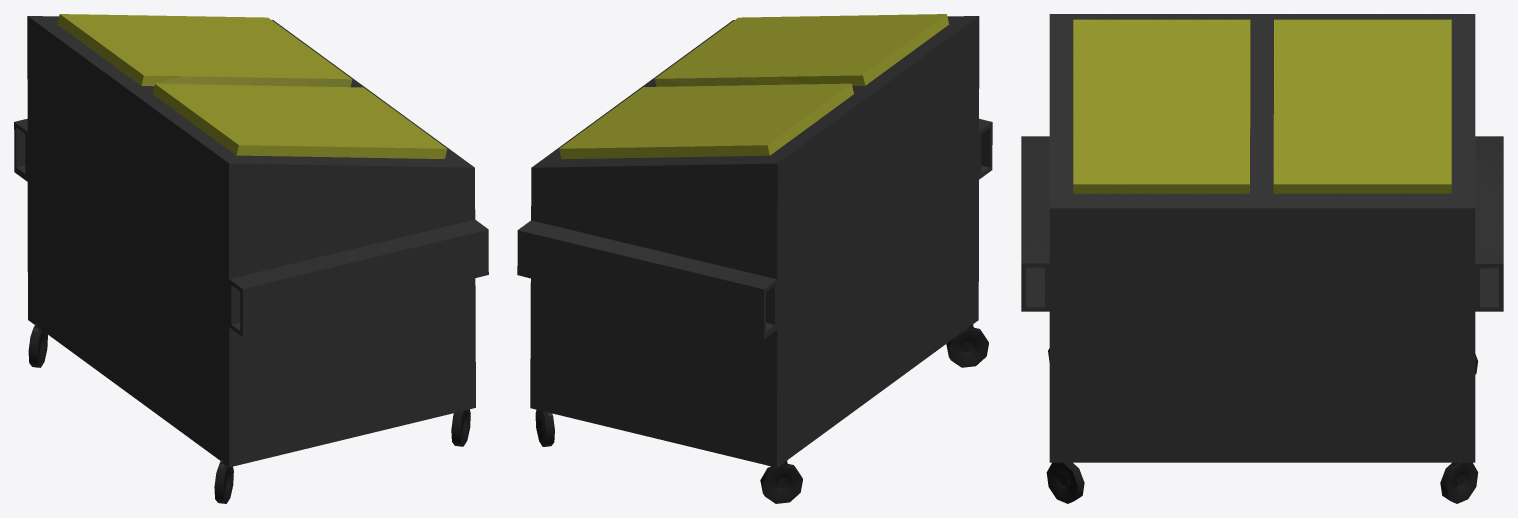
Rendered from trashrecyclage.glb.
3 views of the same model, side by side, from view 1: azimuth 30°, elevation 25°; view 2: azimuth 150°, elevation 25°; view 3: azimuth 270°, elevation 25° (orthographic). The views are drawn at different scales.
Visible parts, largest first — view 1: container_a_poubelle_nouvelle_texture_container a poubelle n; view 2: container_a_poubelle_nouvelle_texture_container a poubelle n; view 3: container_a_poubelle_nouvelle_texture_container a poubelle n.
Boxes of the visible parts, <box> form: container_a_poubelle_nouvelle_texture_container a poubelle n: <box>14,14,488,503</box>; container_a_poubelle_nouvelle_texture_container a poubelle n: <box>517,14,992,503</box>; container_a_poubelle_nouvelle_texture_container a poubelle n: <box>1021,14,1503,503</box>.
Bounding box in the file's own units: 1.38 × 1.72 × 2.04.
1 material, 1 textured.
